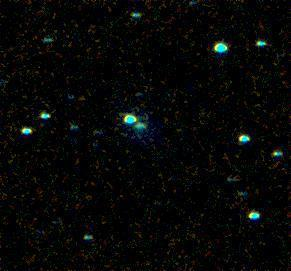star: (155, 78, 185, 108)
